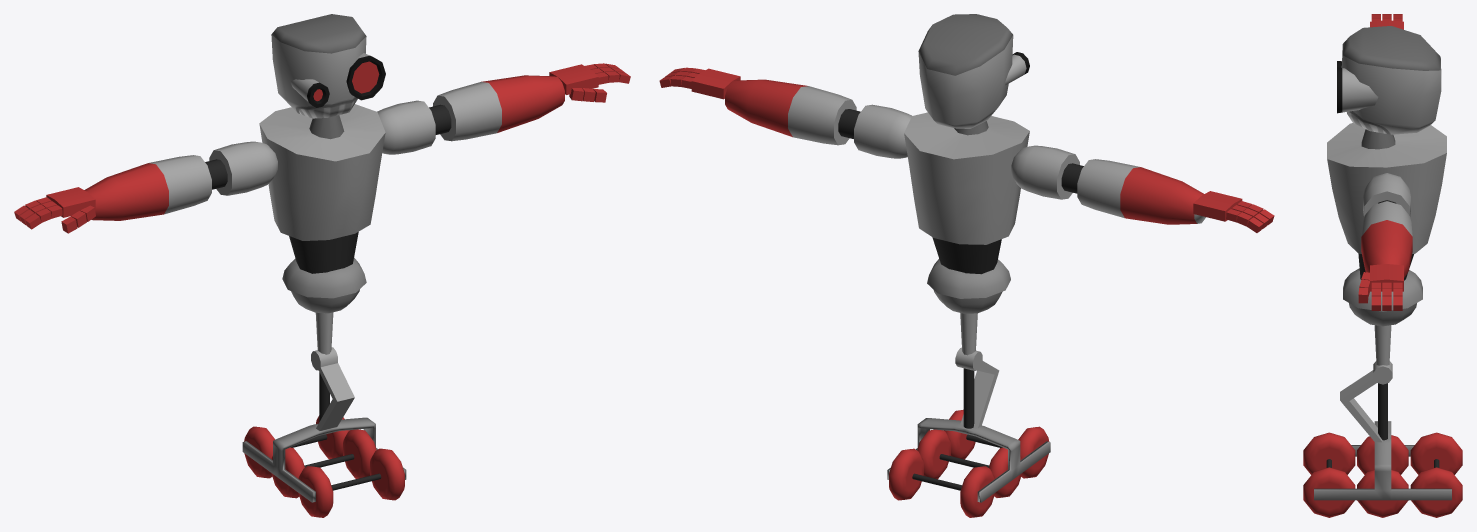
File: Red_Robot.fbx
3 views of the same model, side by side, from view 1: azimuth 30°, elevation 25°; view 2: azimuth 150°, elevation 25°; view 3: azimuth 270°, elevation 25° (orthographic).
Parts seen in each view (by area): view 1: Torso, Head, Right_Arm, Left_Arm, Hips, Front_Wheel, Wheels, Right_Hand, Middle_Wheel, Left_Hand, Knee, Back_Wheel; view 2: Torso, Head, Right_Arm, Left_Arm, Hips, Wheels, Back_Wheel, Middle_Wheel, Right_Hand, Front_Wheel, Left_Hand, Knee; view 3: Head, Torso, Left_Arm, Wheels, Back_Wheel, Front_Wheel, Hips, Middle_Wheel, Left_Hand, Knee, Right_Hand.
Part boxes in pixels (left/top/right/bottom): Torso: left=259, top=104, right=385, bottom=273; Head: left=271, top=14, right=385, bottom=118; Right_Arm: left=84, top=141, right=277, bottom=220; Left_Arm: left=377, top=75, right=564, bottom=154; Hips: left=282, top=257, right=366, bottom=354; Front_Wheel: left=298, top=448, right=404, bottom=517; Wheels: left=242, top=372, right=406, bottom=502; Right_Hand: left=14, top=187, right=95, bottom=233; Middle_Wheel: left=271, top=429, right=376, bottom=498; Left_Hand: left=549, top=63, right=630, bottom=102; Knee: left=311, top=347, right=354, bottom=430; Back_Wheel: left=244, top=415, right=349, bottom=478; Torso: left=904, top=112, right=1029, bottom=274; Head: left=918, top=14, right=1029, bottom=128; Right_Arm: left=1011, top=145, right=1205, bottom=224; Left_Arm: left=725, top=79, right=911, bottom=158; Hips: left=927, top=258, right=1010, bottom=355; Wheels: left=887, top=368, right=1050, bottom=502; Back_Wheel: left=889, top=448, right=994, bottom=517; Middle_Wheel: left=917, top=429, right=1022, bottom=497; Right_Hand: left=1193, top=191, right=1274, bottom=232; Front_Wheel: left=944, top=409, right=1049, bottom=478; Left_Hand: left=659, top=67, right=740, bottom=99; Knee: left=955, top=347, right=999, bottom=428; Head: left=1337, top=26, right=1441, bottom=134; Torso: left=1327, top=123, right=1446, bottom=280; Left_Arm: left=1361, top=173, right=1412, bottom=277; Wheels: left=1314, top=383, right=1451, bottom=500; Back_Wheel: left=1410, top=432, right=1462, bottom=517; Front_Wheel: left=1303, top=432, right=1355, bottom=517; Hips: left=1343, top=268, right=1422, bottom=365; Middle_Wheel: left=1357, top=435, right=1408, bottom=517; Left_Hand: left=1358, top=264, right=1403, bottom=310; Knee: left=1340, top=361, right=1392, bottom=442; Right_Hand: left=1370, top=14, right=1403, bottom=29.
Size of the model in its own units: 215 by 158 by 49.59.
